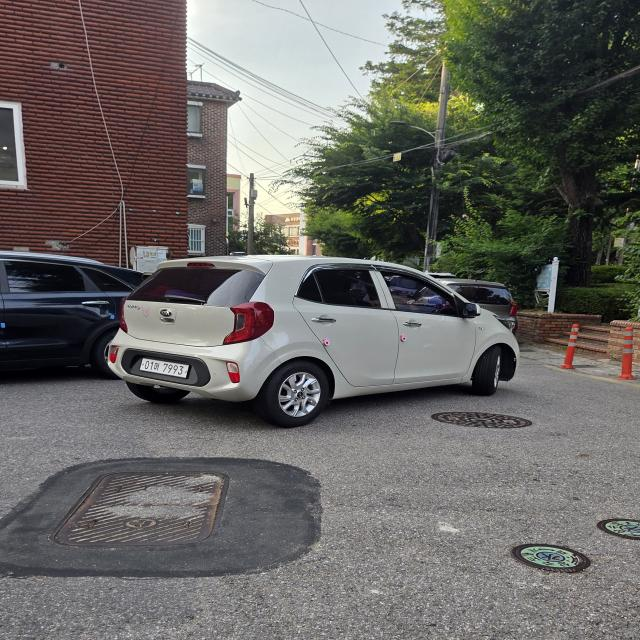car: (110, 253, 486, 427), (0, 248, 148, 377)
